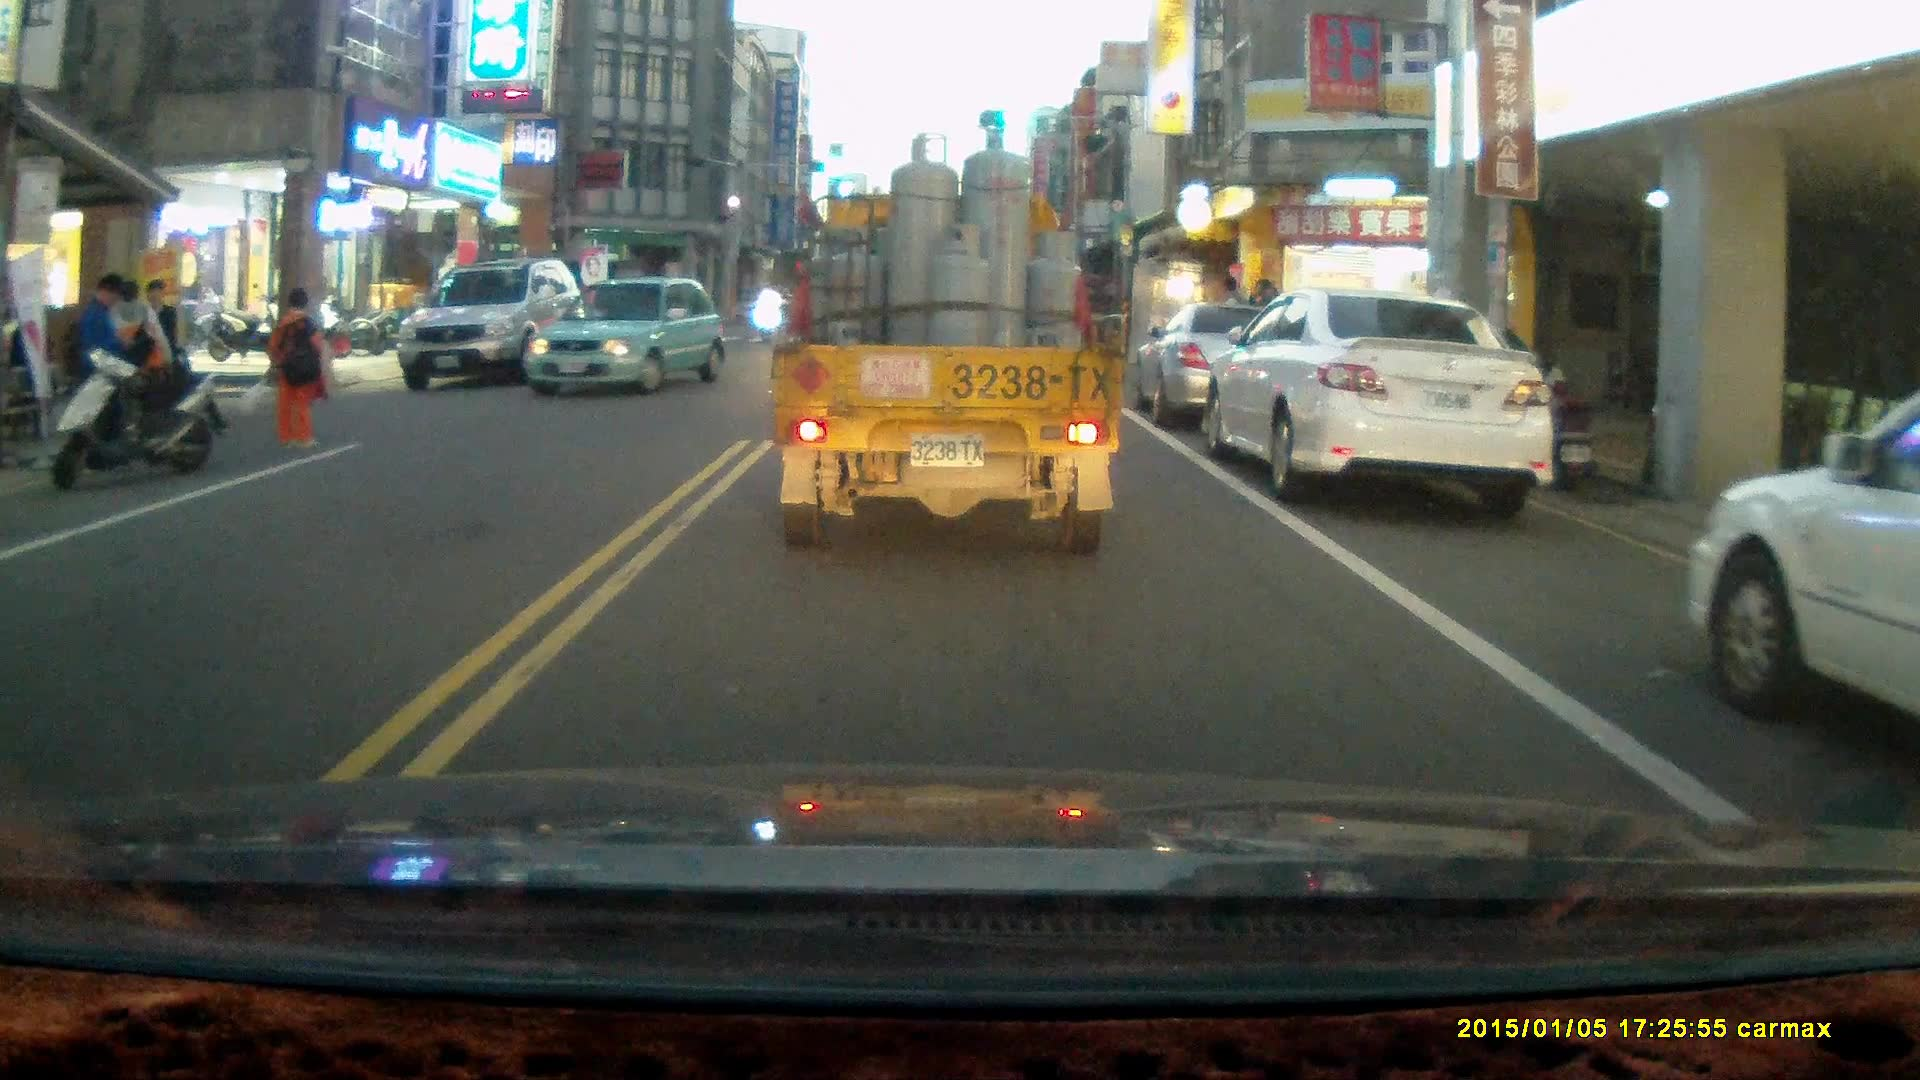pedestrian: (58, 272, 140, 462), (260, 285, 331, 448), (129, 278, 180, 418)
vehicle: (770, 124, 1129, 558), (1208, 284, 1559, 516), (1699, 378, 1920, 738), (1138, 299, 1382, 436), (402, 259, 590, 396), (529, 278, 721, 401)
